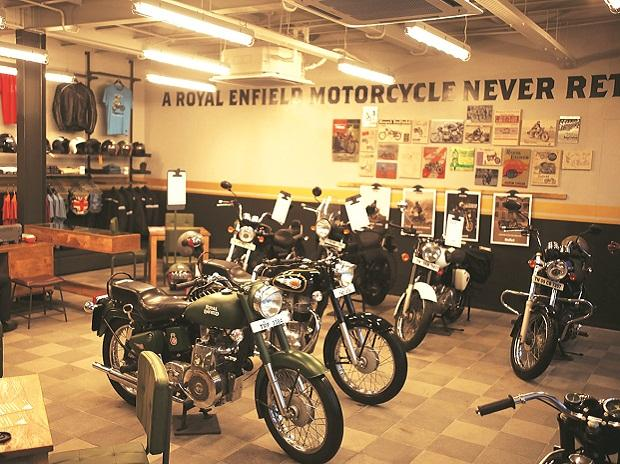Bike: (81, 268, 352, 463), (506, 230, 597, 380), (396, 226, 489, 352)
